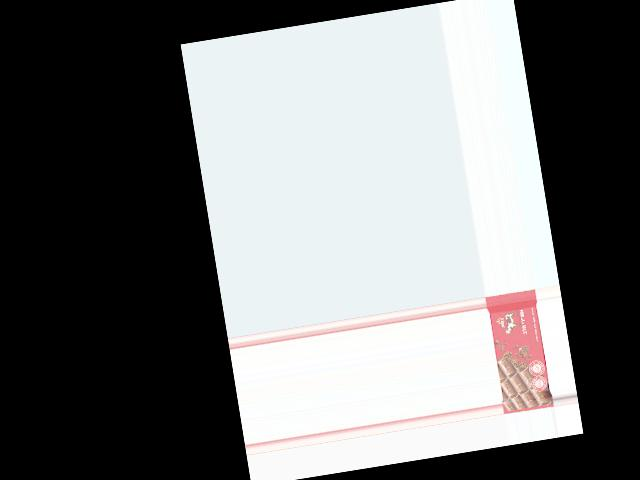chocolate: (485, 290, 554, 414)
